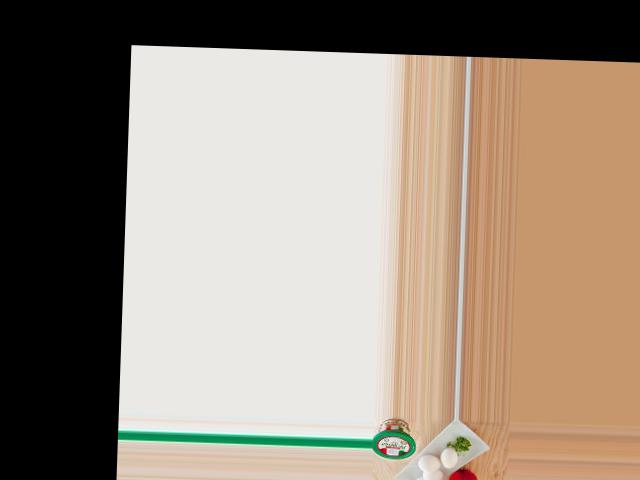bell_pepper: (441, 469, 486, 480)
